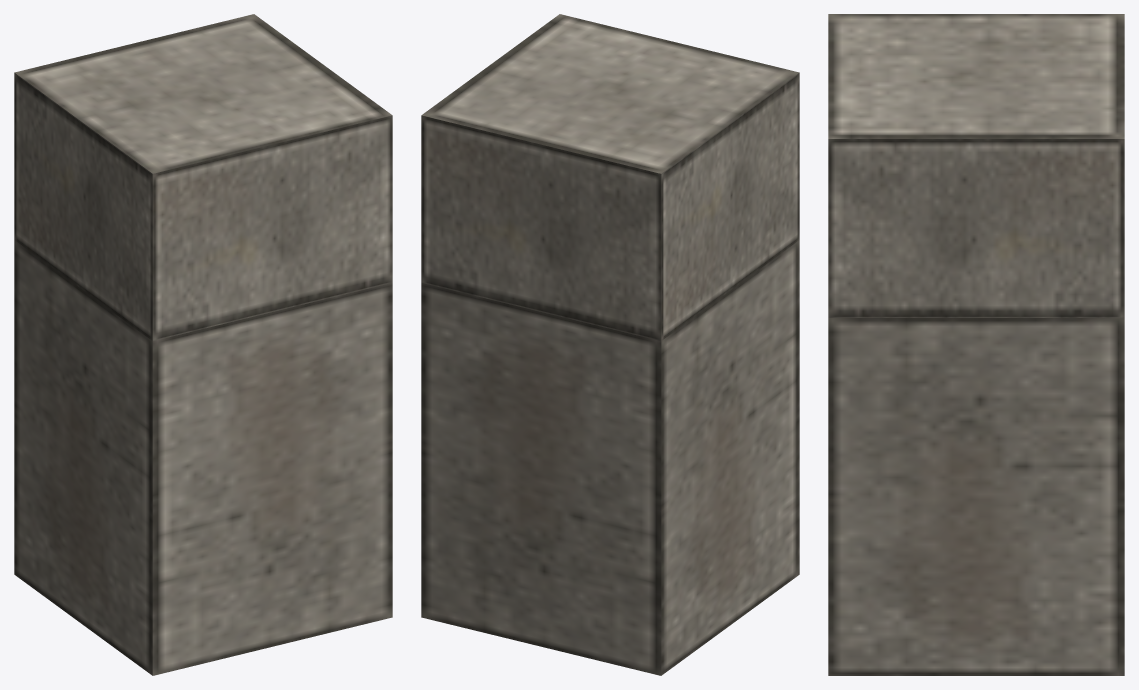
The model's file is concretebase_1.5x1.5.fbx.
The picture shows the model from 3 angles, left to right: view 1: azimuth 30°, elevation 25°; view 2: azimuth 150°, elevation 25°; view 3: azimuth 270°, elevation 25°; orthographic projection. The views are drawn at different scales.
Parts seen in each view (by area): view 1: ConcreteBase_1.5x1.5; view 2: ConcreteBase_1.5x1.5; view 3: ConcreteBase_1.5x1.5.
Part boxes in pixels (bbox=[...]): ConcreteBase_1.5x1.5: bbox=[14, 14, 392, 675]; ConcreteBase_1.5x1.5: bbox=[421, 14, 799, 675]; ConcreteBase_1.5x1.5: bbox=[828, 14, 1124, 675].
Size of the model in its own units: 150 by 300 by 150.
